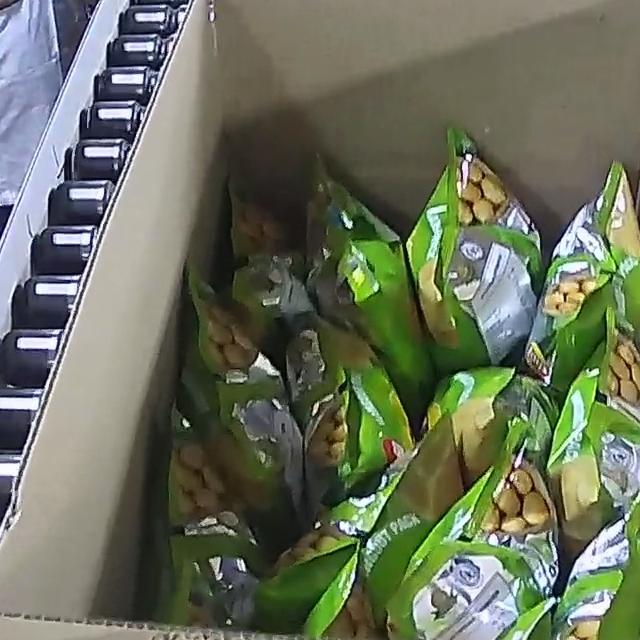yogurt: (156, 124, 640, 640)
